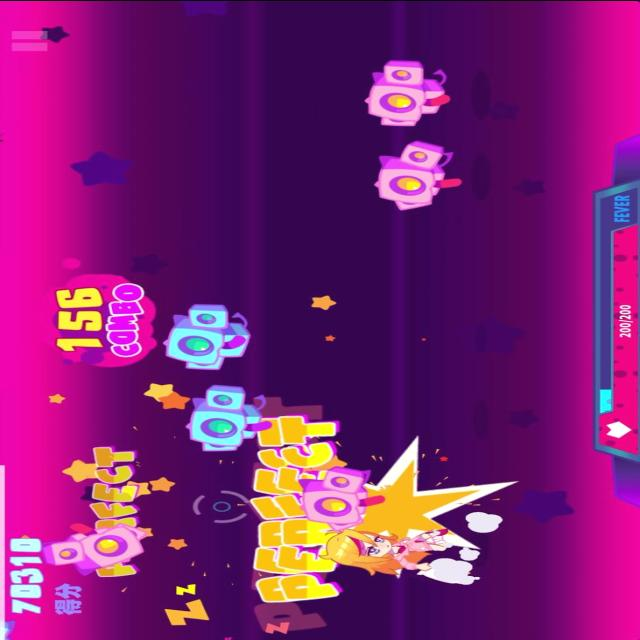jiqi: (366, 138, 470, 212), (357, 56, 465, 122), (160, 300, 254, 374), (42, 517, 152, 580), (181, 382, 268, 454)
